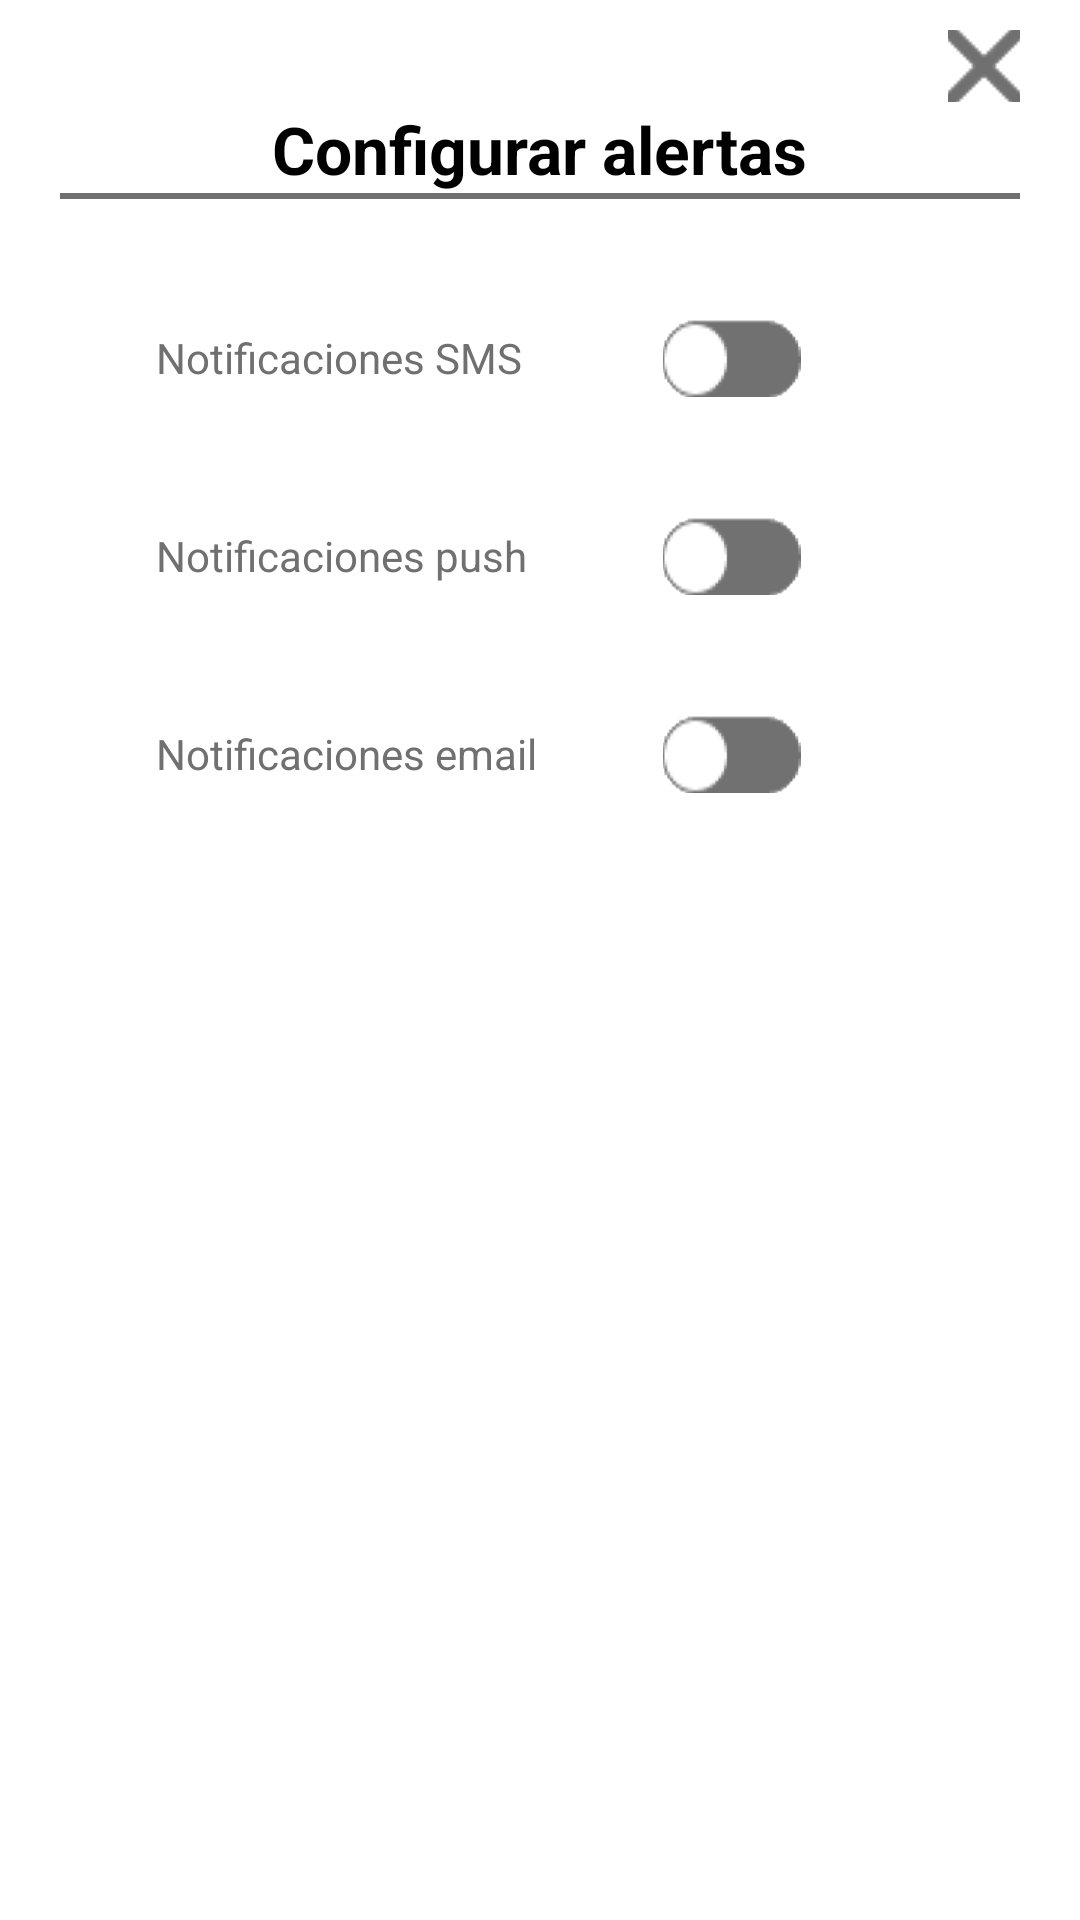

Where to tap for icons on this 1080w x 1920h app screen, as (x,y):
close: (984,66)
toggle off: (732,358), (732,556), (732,754)
